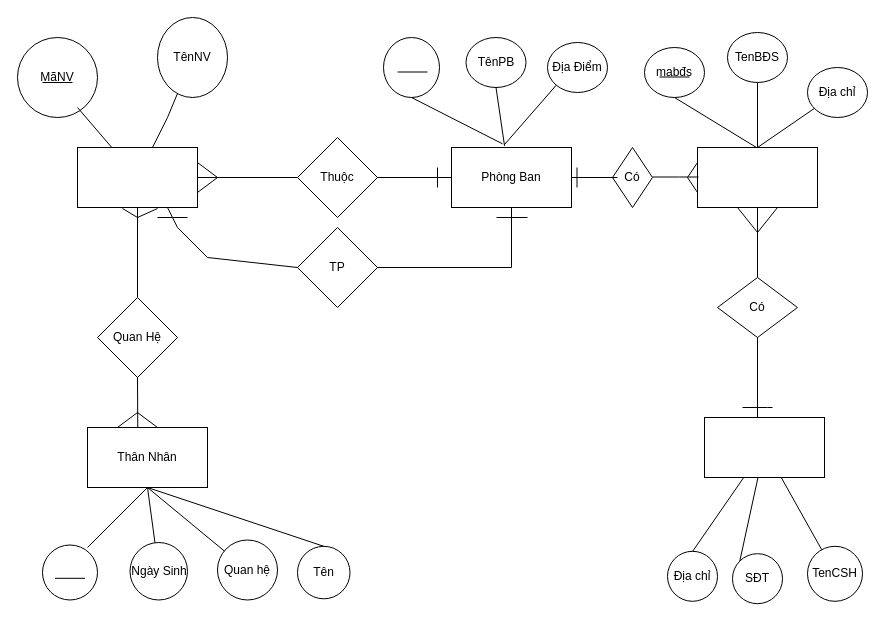
This 885x622 diagram has some shape labels left out. The box of each missing label's shape, as (x1, y1, x2, y2) in pixels:
BĐS: (696, 146, 818, 208)
Chủ Sở Hữu: (704, 416, 824, 478)
MATN: (42, 544, 98, 600)
MãPB: (382, 36, 440, 98)
Nhân Viên: (76, 146, 198, 208)
